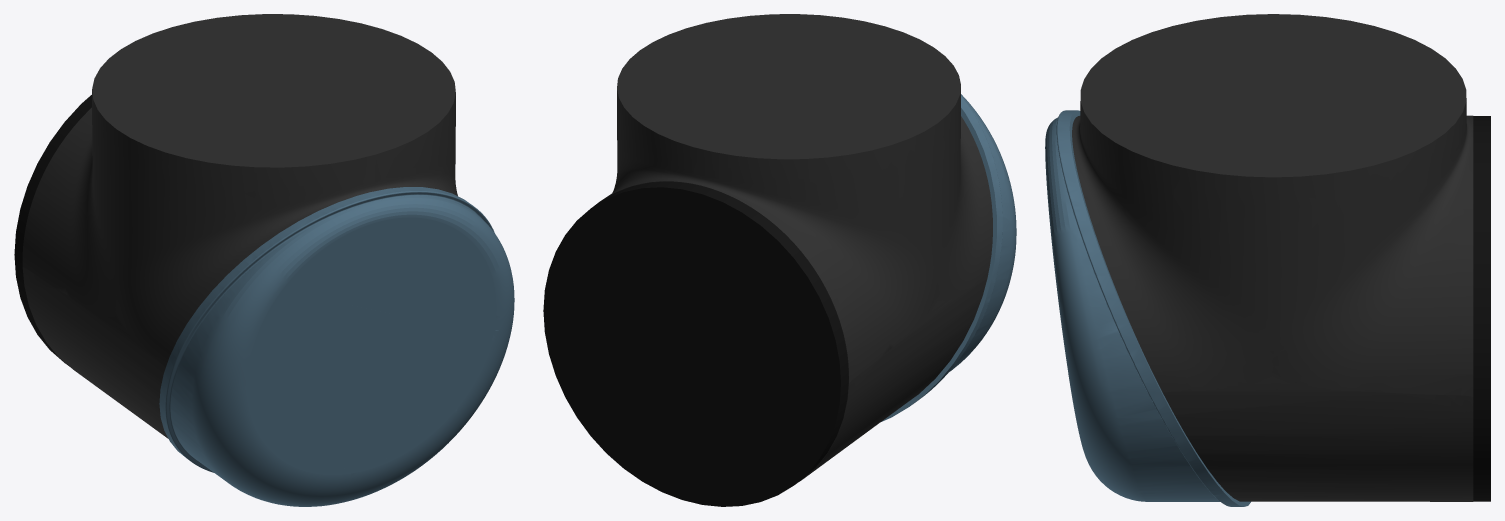
Rendered from shoulder.obj.
3 renders of one model, left to right at view 1: azimuth 30°, elevation 25°; view 2: azimuth 150°, elevation 25°; view 3: azimuth 270°, elevation 25°, orthographic. The views are drawn at different scales.
Parts seen in each view (by area): view 1: Actor0_(37), Actor1; view 2: Actor0_(37), Actor1; view 3: Actor0_(37), Actor1.
Boxes of the visible parts, box(x1,y1,x2,y2) form: Actor0_(37): box(14, 14, 457, 438); Actor1: box(159, 187, 514, 506); Actor0_(37): box(543, 14, 992, 506); Actor1: box(881, 94, 1016, 421); Actor0_(37): box(1072, 14, 1490, 501); Actor1: box(1045, 110, 1250, 506).
Size of the model in its own units: 0.119 by 0.13 by 0.1337.
